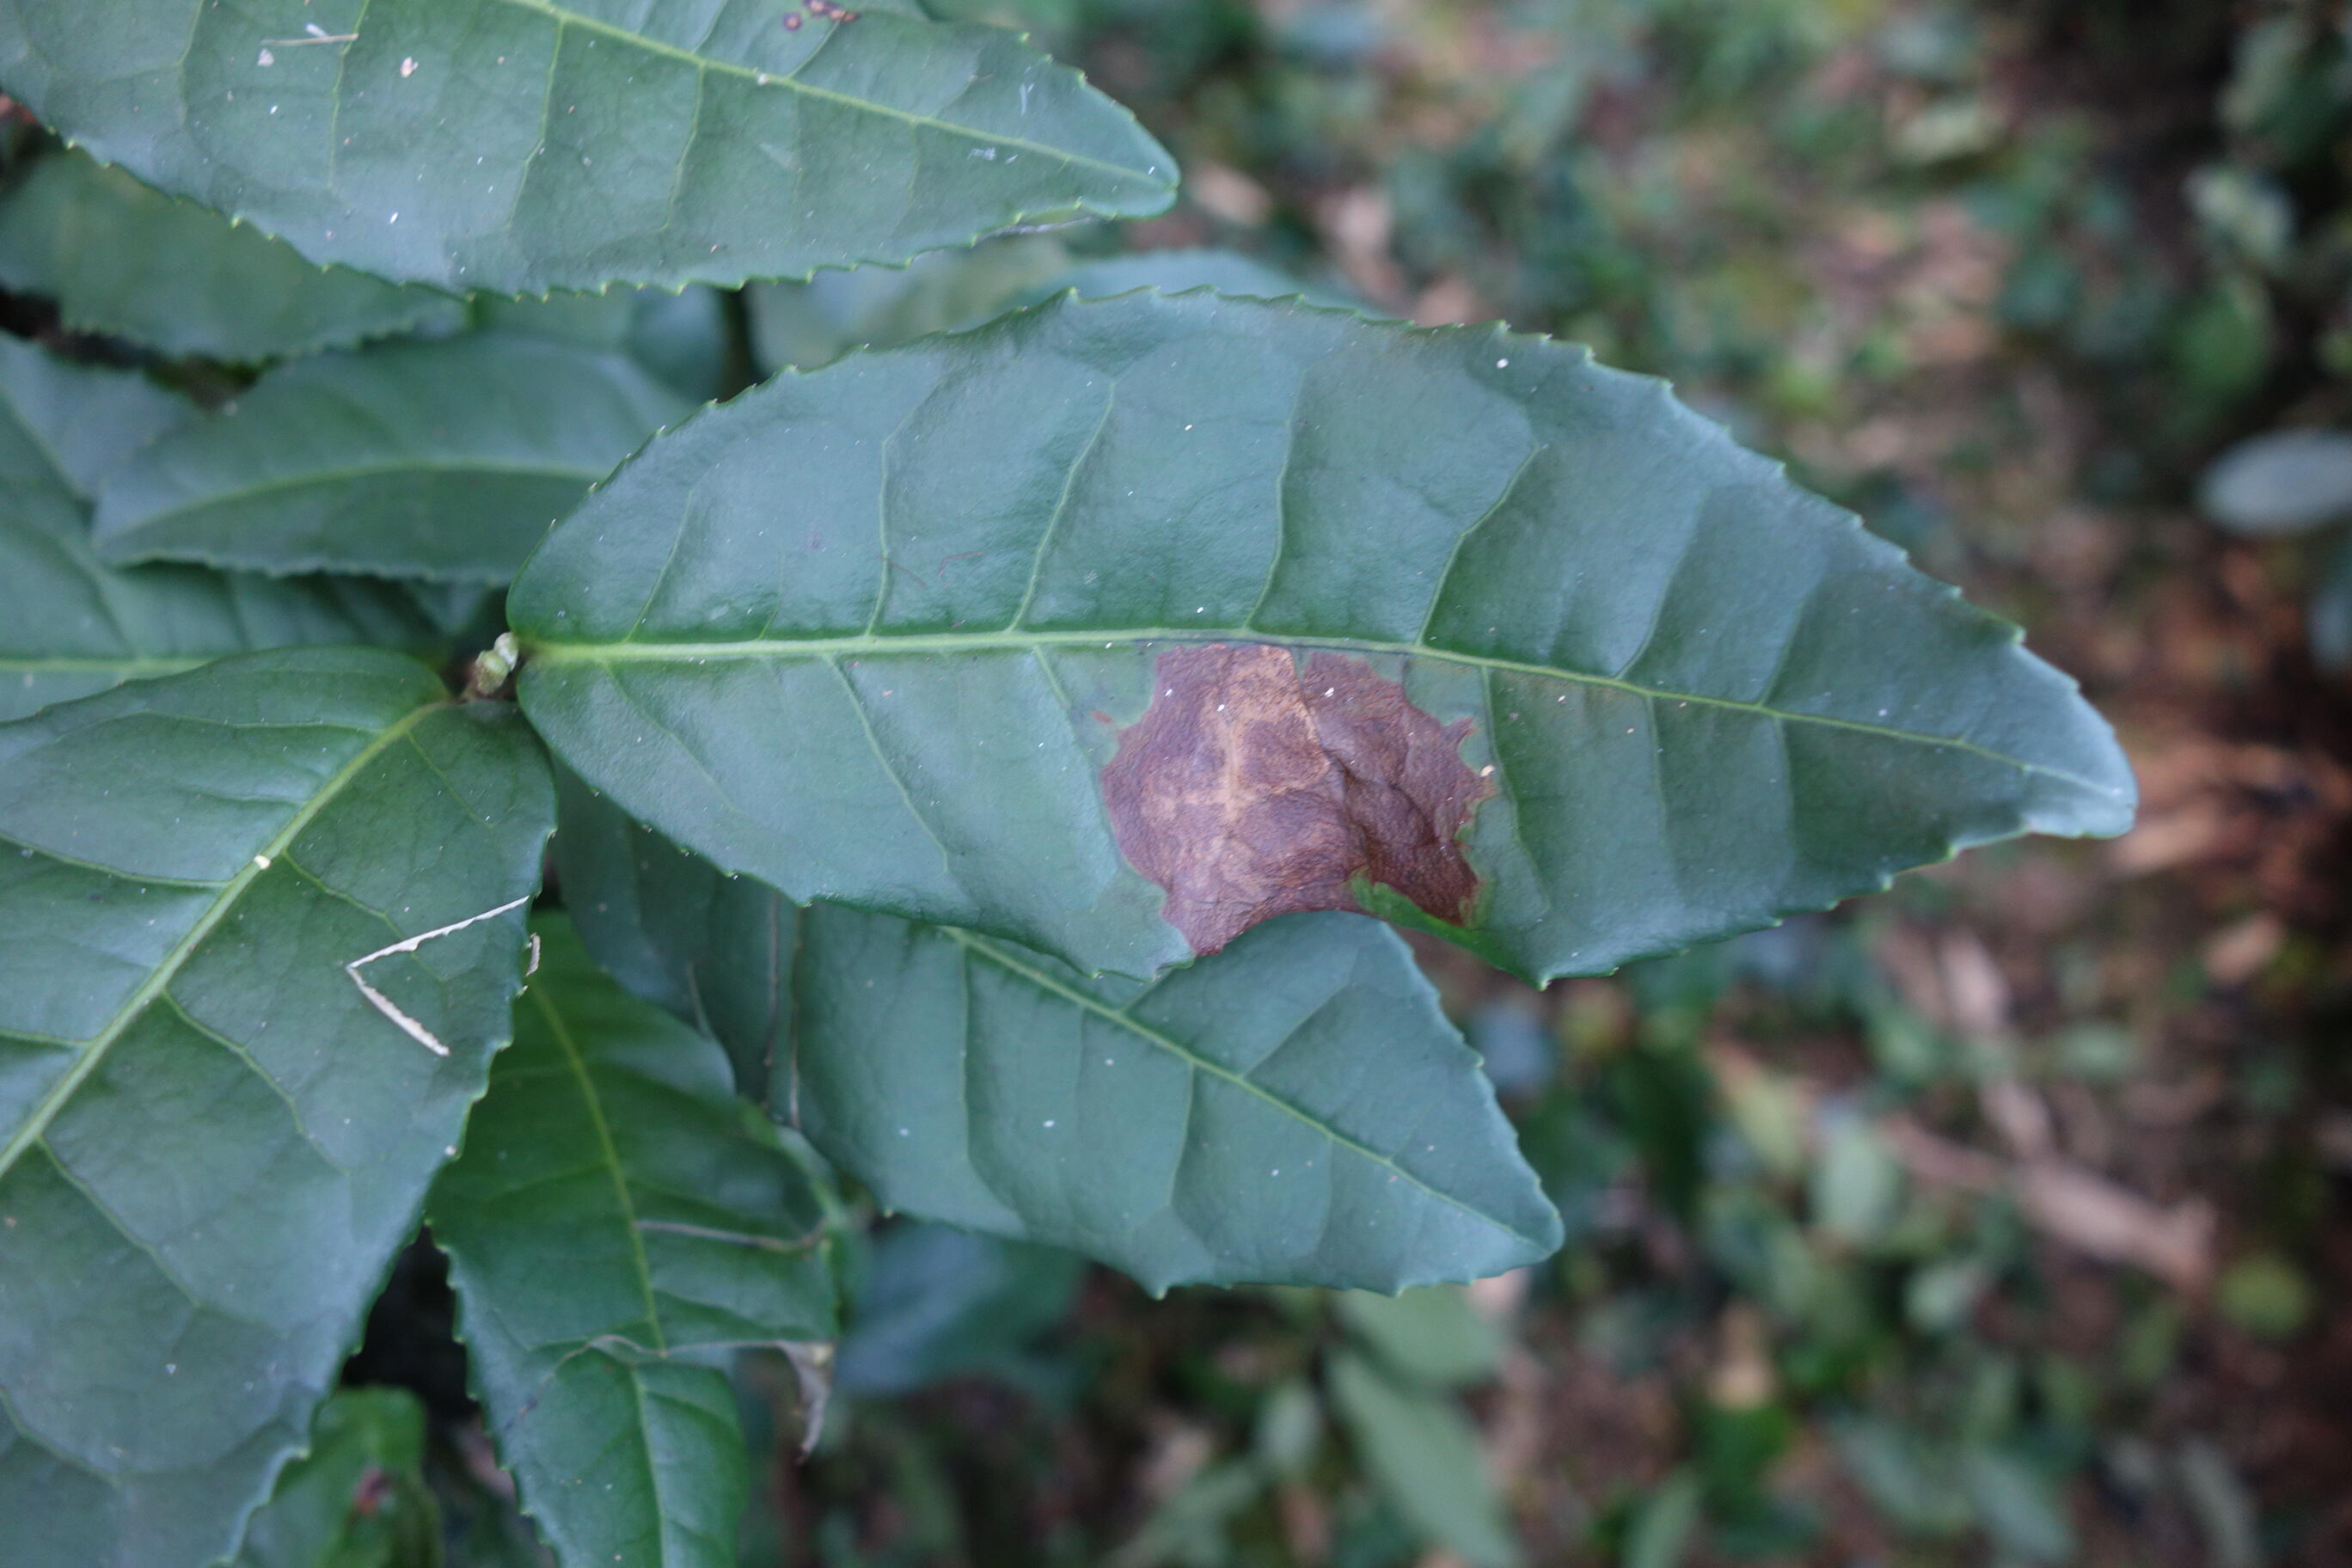tanju_high: (516, 280, 2144, 989)
